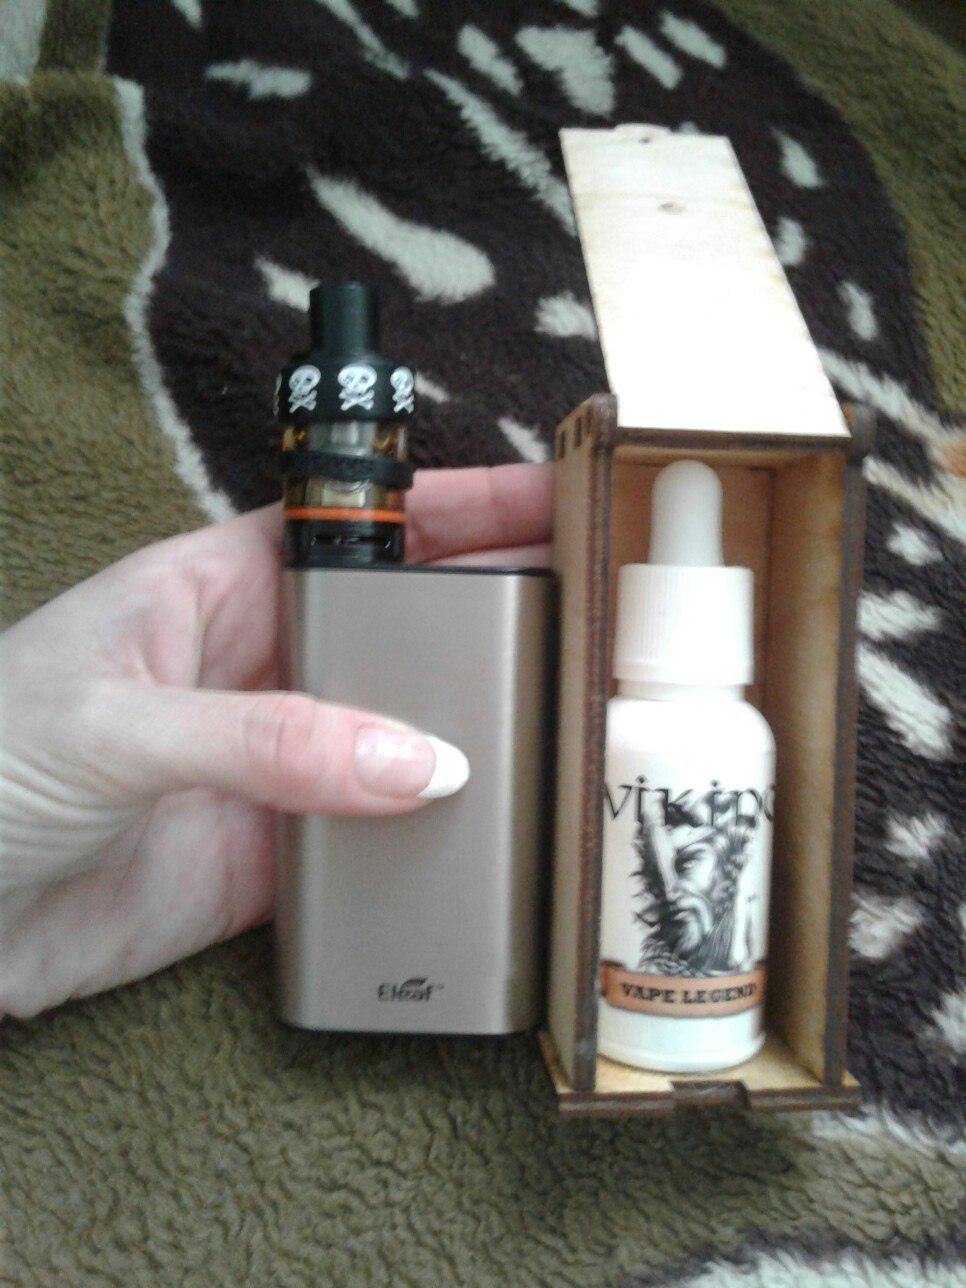Vape: (272, 283, 562, 1033)
